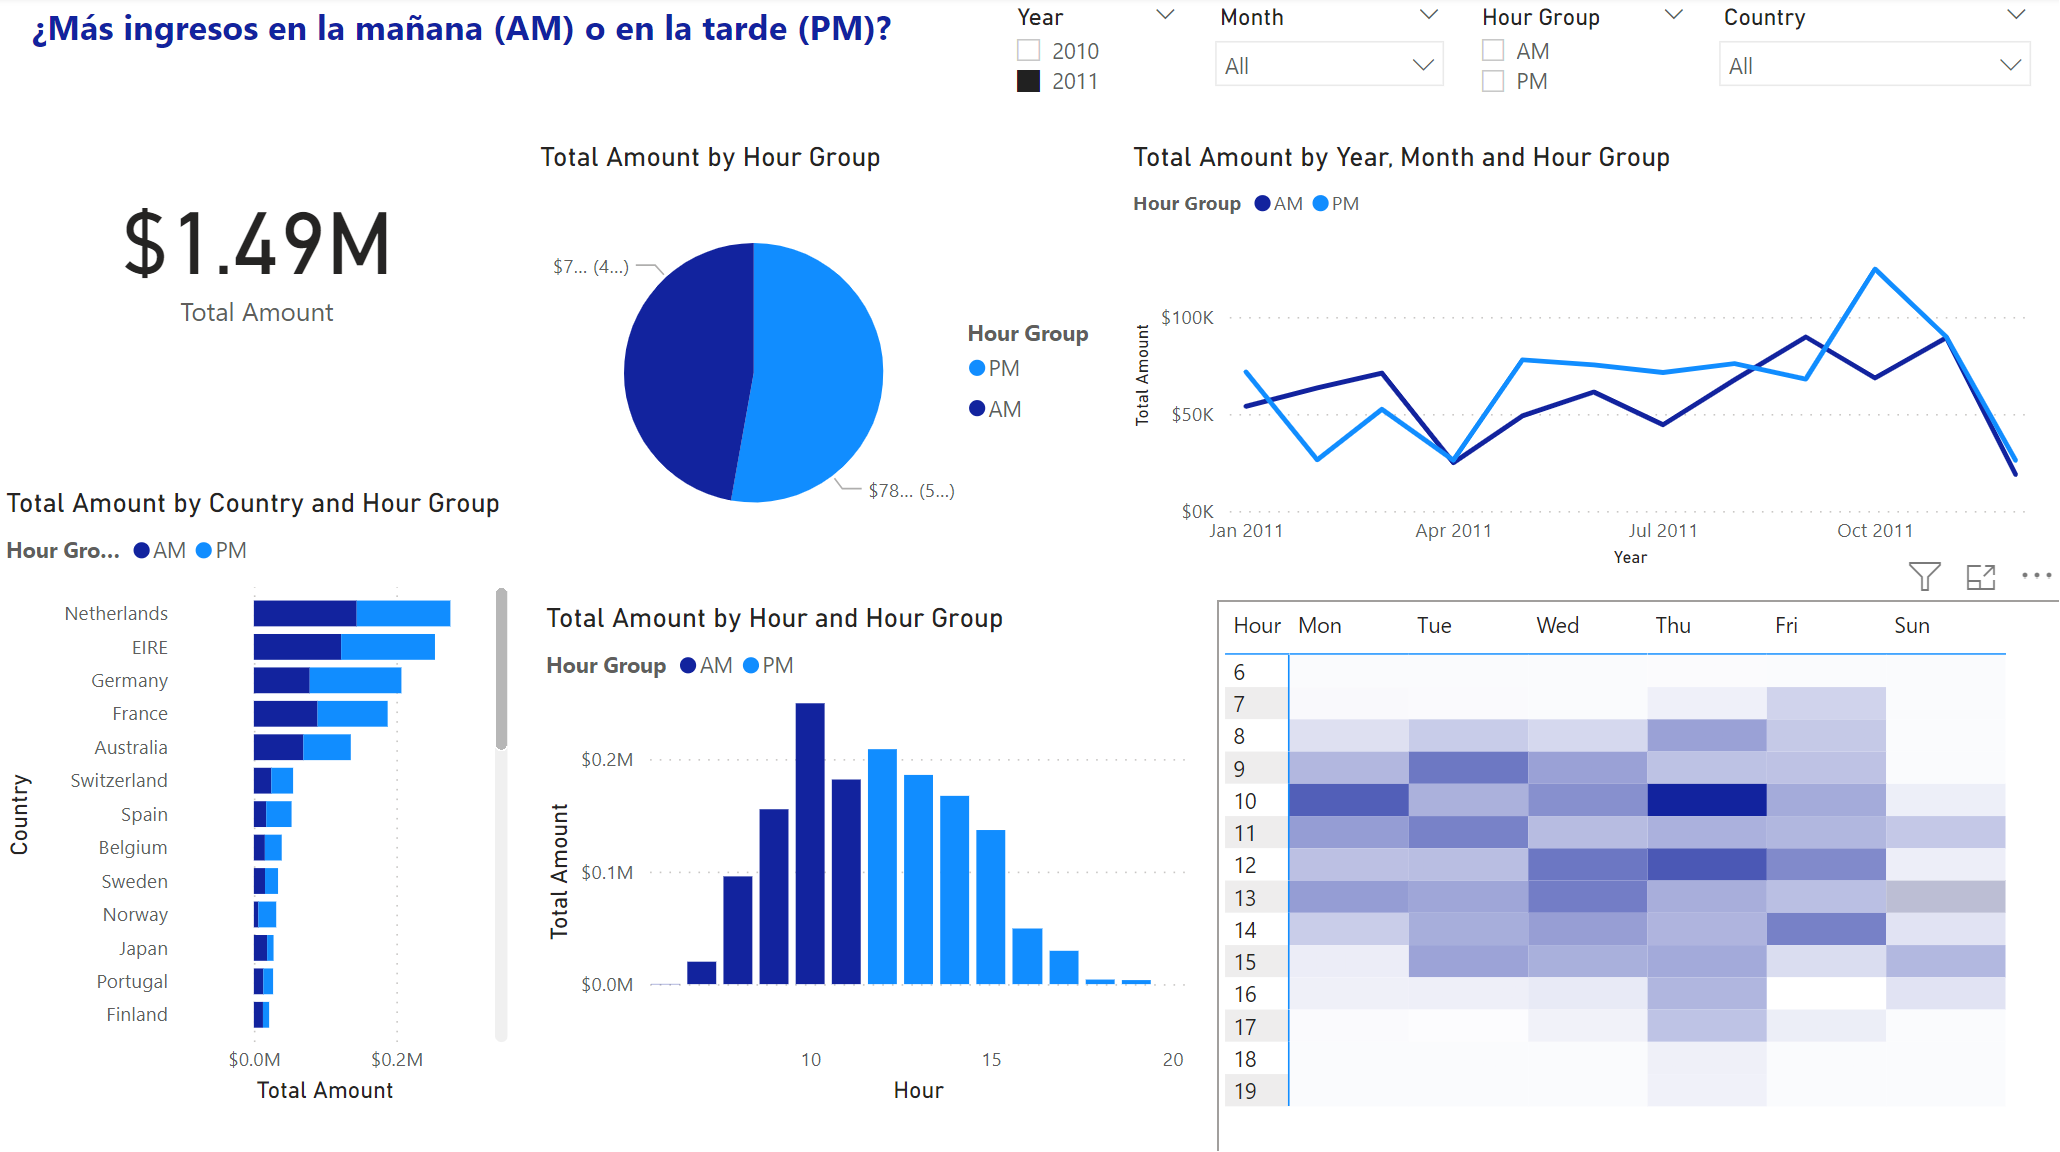

Layout of this report page (visuals, bound fields, positions):
{"tool":"powerbi","page":{"name":"Page 3","canvas":[1280,720],"ordinal":0},"visuals":[{"type":"card","fields":{"Values":["DAX Medidas.Total Amount"]},"box":[99.2,150.9,206.8,131.9],"z":0},{"type":"pieChart","fields":{"Category":["invoice data.Hour Group"],"Y":["DAX Medidas.Total Amount"]},"box":[390.4,140.3,244.8,211],"z":1000},{"type":"lineChart","fields":{"Category":["invoice data.InvoiceDate.Variation.Date Hierarchy.Year","invoice data.InvoiceDate.Variation.Date Hierarchy.Month","invoice data.InvoiceDate.Variation.Date Hierarchy.Day"],"Y":["DAX Medidas.Total Amount"],"Series":["invoice data.Hour Group"]},"box":[682.7,112.9,597.3,279.6],"z":2000},{"type":"columnChart","fields":{"Category":["invoice data.Hour"],"Y":["DAX Medidas.Total Amount"],"Series":["invoice data.Hour Group"]},"box":[318.7,393.6,321.8,326.1],"z":3000},{"type":"barChart","fields":{"Y":["DAX Medidas.Total Amount"],"Category":["invoice data.Country"],"Series":["invoice data.Hour Group"]},"box":[9.5,392.5,296.5,327.1],"z":4000},{"type":"pivotTable","fields":{"Rows":["invoice data.Hour"],"Columns":["invoice data.Day of Week"],"Values":["DAX Medidas.Total Amount"]},"box":[640.5,393.6,621.5,326.1],"z":5000},{"type":"slicer","fields":{"Values":["invoice data.InvoiceDate.Variation.Date Hierarchy.Year"]},"box":[770.3,0,109.7,117.1],"z":5001},{"type":"slicer","fields":{"Values":["invoice data.InvoiceDate.Variation.Date Hierarchy.Month"]},"box":[884.3,0,109.7,76],"z":5002},{"type":"slicer","fields":{"Values":["invoice data.Hour Group"]},"box":[994,0,119.2,89.7],"z":5004},{"type":"slicer","fields":{"Values":["invoice data.Country"]},"box":[1106.9,0,174.1,89.7],"z":5005},{"type":"textbox","box":[9.5,0,760.8,40.1],"z":5006}]}

Visuals, with their boxes in screenshot pixels (x1, y1, x2, y2), scaled from the page's 1280x720 canvas onto the 2060x1152 screenshot:
card - DAX Medidas.Total Amount: Rect(160, 241, 492, 452)
pieChart - invoice data.Hour Group x DAX Medidas.Total Amount: Rect(628, 224, 1022, 562)
lineChart - invoice data.InvoiceDate.Variation.Date Hierarchy.Year x invoice data.InvoiceDate.Variation.Date Hierarchy.Month: Rect(1099, 181, 2059, 628)
columnChart - invoice data.Hour x DAX Medidas.Total Amount: Rect(513, 630, 1031, 1151)
barChart - DAX Medidas.Total Amount x invoice data.Country: Rect(15, 628, 492, 1151)
pivotTable - invoice data.Hour x invoice data.Day of Week: Rect(1031, 630, 2031, 1151)
slicer - invoice data.InvoiceDate.Variation.Date Hierarchy.Year: Rect(1240, 0, 1416, 187)
slicer - invoice data.InvoiceDate.Variation.Date Hierarchy.Month: Rect(1423, 0, 1600, 122)
slicer - invoice data.Hour Group: Rect(1600, 0, 1792, 144)
slicer - invoice data.Country: Rect(1781, 0, 2059, 144)
textbox: Rect(15, 0, 1240, 64)
